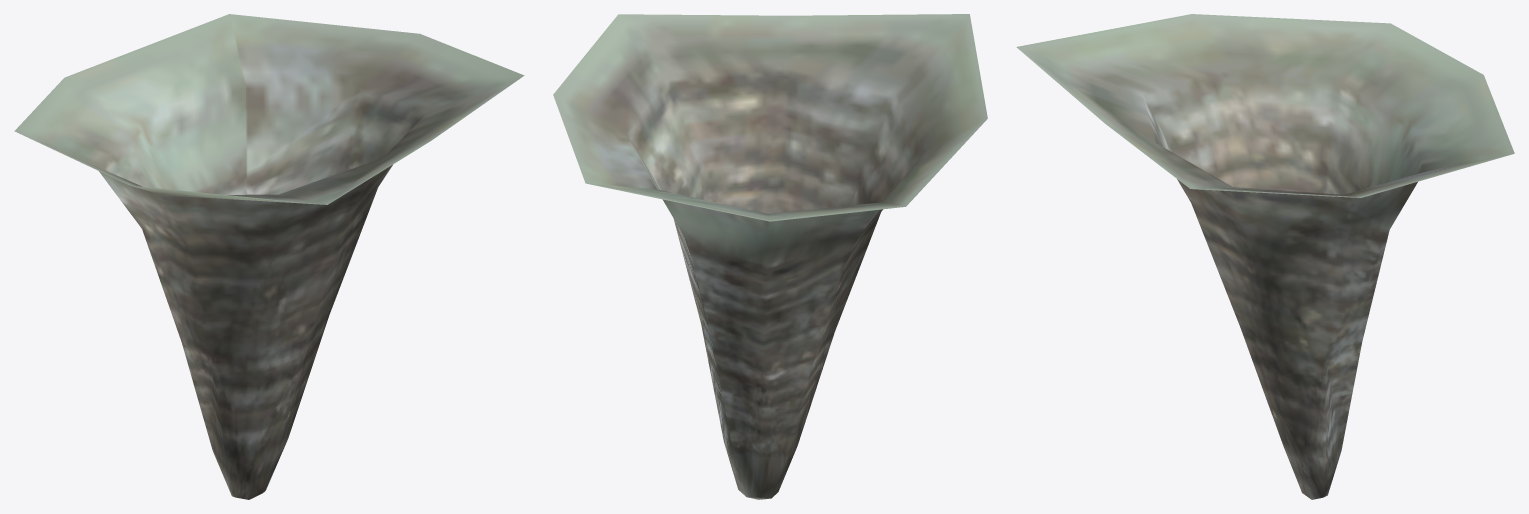
File: TROLLHOLE02_PS-MAINSTALAG86.fbx
3 renders of one model, left to right at view 1: azimuth 30°, elevation 25°; view 2: azimuth 150°, elevation 25°; view 3: azimuth 270°, elevation 25°, orthographic. The views are drawn at different scales.
Parts seen in each view (by area): view 1: TROLLHOLE02_PS-MAINSTALAG86; view 2: TROLLHOLE02_PS-MAINSTALAG86; view 3: TROLLHOLE02_PS-MAINSTALAG86.
Boxes of the visible parts, x1=… form: TROLLHOLE02_PS-MAINSTALAG86: x1=14, y1=14, x2=524, y2=499; TROLLHOLE02_PS-MAINSTALAG86: x1=553, y1=14, x2=987, y2=499; TROLLHOLE02_PS-MAINSTALAG86: x1=1016, y1=14, x2=1514, y2=499.
Bounding box in the file's own units: 24339 × 24154 × 26197.
Materials: 1 (1 with a texture image).
